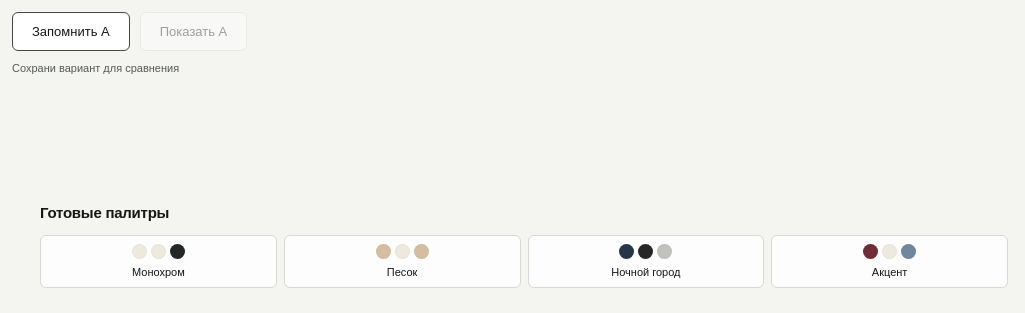
Scenario: desktop comparison controls › protects saved A while previewing and returns to the complete B configuration
The width and height of the screenshot is (1025, 313).
Check: the button "Показать A" is disabled, box 140,12 -> 247,51
Click the button "Запомнить A" at (71, 32), box 12,12 -> 130,51
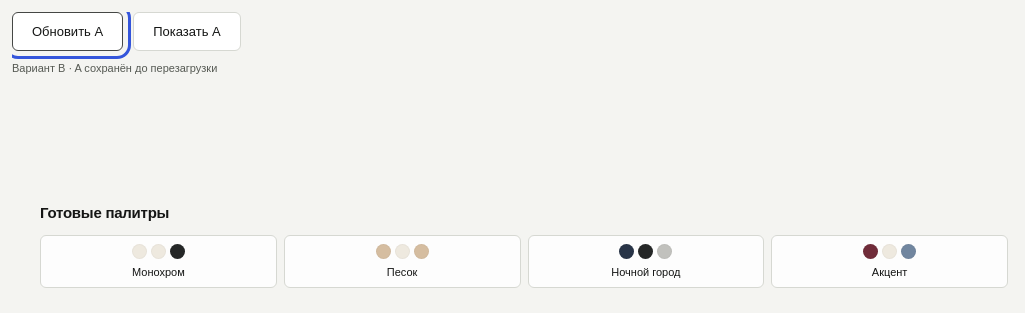
Click the button "Песок" at (402, 261), box 284,234 -> 521,288
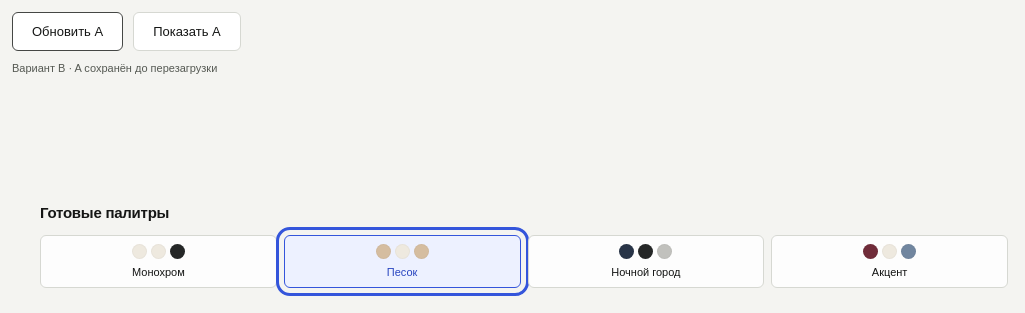
Click the button "Показать A" at (187, 32), box 133,12 -> 241,51
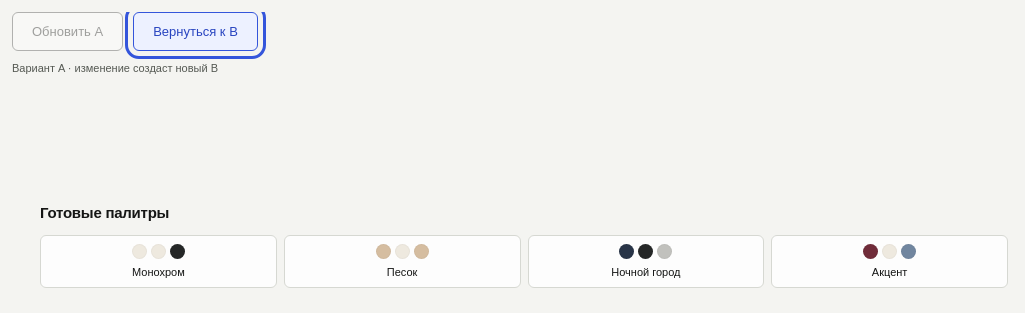
Check: the button "Обновить A" is disabled
Click the button "Обновить A" at (68, 32), box 12,12 -> 123,51
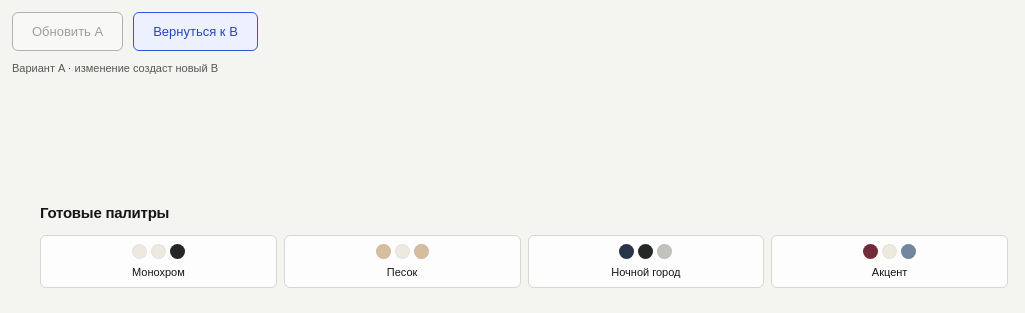
Click the button "Вернуться к B" at (196, 32), box 133,12 -> 258,51
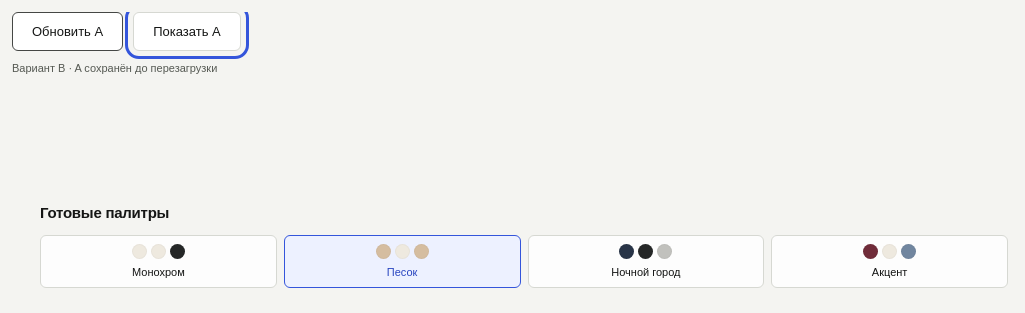
Check: the button "Обновить A" is enabled, box 12,12 -> 123,51
